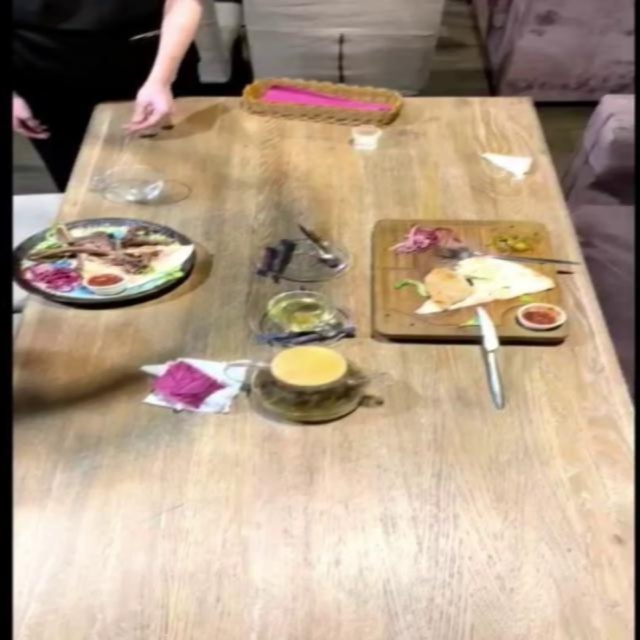meat: (368, 216, 576, 346), (0, 221, 237, 296)
tea: (251, 345, 371, 423)
